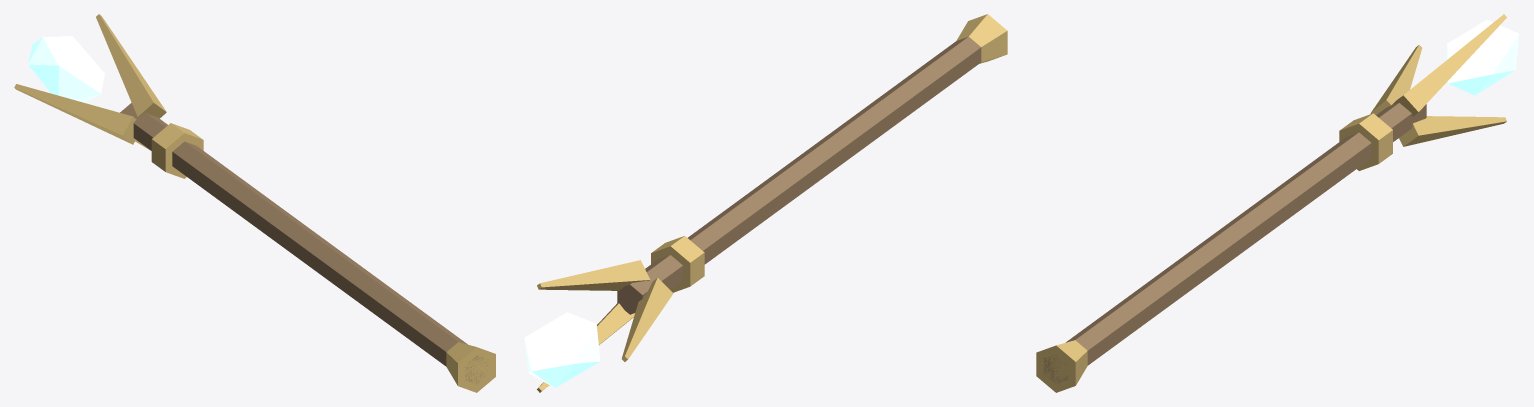
Rendered from Staff.fbx.
3 views of the same model, side by side, from view 1: azimuth 30°, elevation 25°; view 2: azimuth 150°, elevation 25°; view 3: azimuth 330°, elevation 25° (orthographic). The views are drawn at different scales.
Visible parts, largest first — view 1: fam_wood, fam_gold, fam_orb_emit; view 2: fam_wood, fam_gold, fam_orb_emit; view 3: fam_wood, fam_gold, fam_orb_emit.
Boxes of the visible parts, x1,y1,x2,y2 form: fam_wood: [120, 103, 485, 383]; fam_gold: [14, 14, 495, 392]; fam_orb_emit: [28, 36, 104, 102]; fam_wood: [617, 36, 981, 314]; fam_gold: [537, 14, 1007, 392]; fam_orb_emit: [524, 312, 600, 387]; fam_wood: [1043, 97, 1426, 383]; fam_gold: [1036, 14, 1506, 392]; fam_orb_emit: [1445, 19, 1519, 95].
Bounding box in the file's own units: 0.772 × 0.888 × 6.73.
